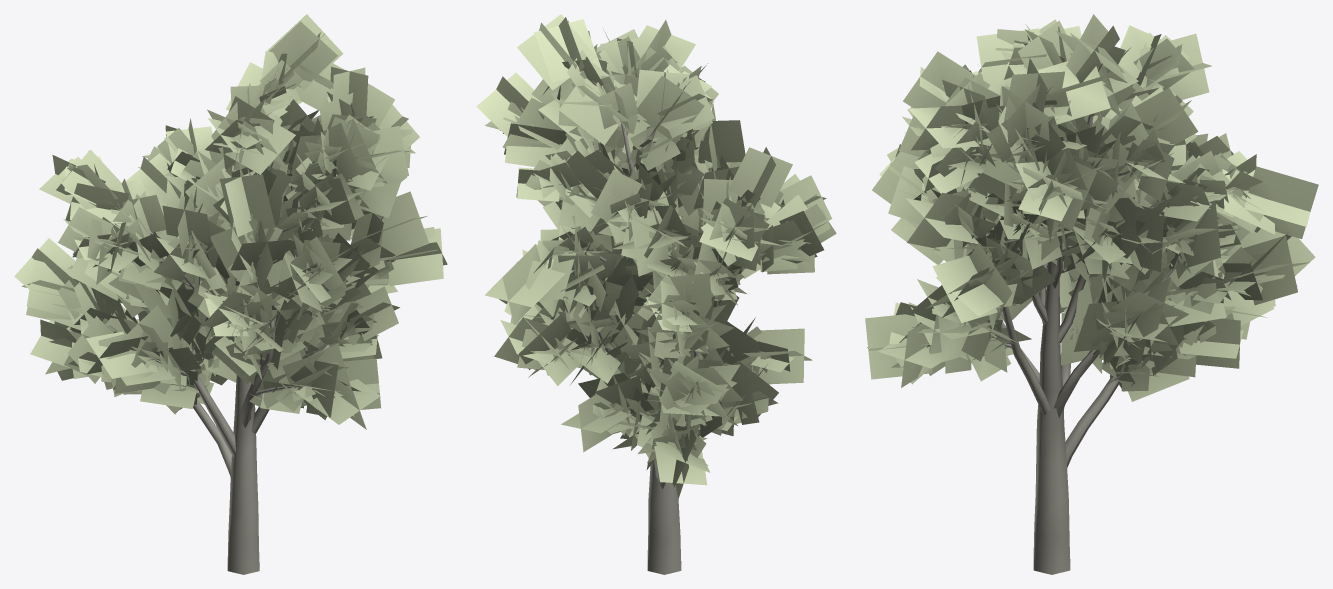
Rendered from keyaki.glb.
The picture shows the model from 3 angles, left to right: view 1: azimuth 30°, elevation 25°; view 2: azimuth 150°, elevation 25°; view 3: azimuth 270°, elevation 25°; orthographic projection. The views are drawn at different scales.
Bounding box in the file's own units: 13.11 × 19 × 13.15.
